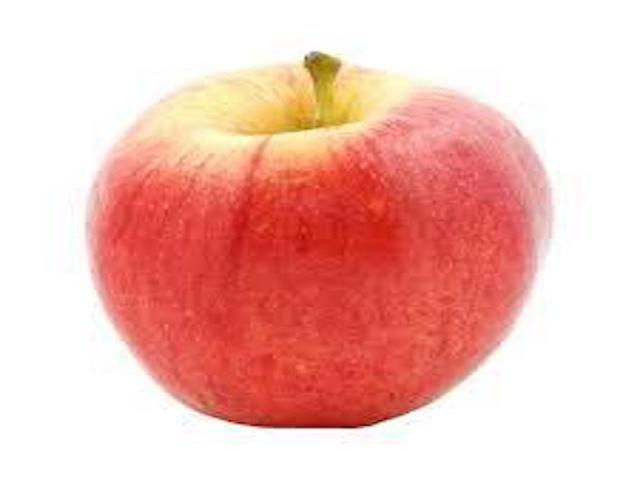apple: (81, 44, 558, 436)
